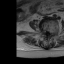CCS_severe_stenosis: (47, 31, 49, 38)
LFS_severe_stenosis: (52, 30, 54, 36)
LLS_normal: (49, 32, 51, 37)
RFS_severe_stenosis: (43, 29, 45, 35)
RLS_severe_stenosis: (45, 31, 47, 36)
